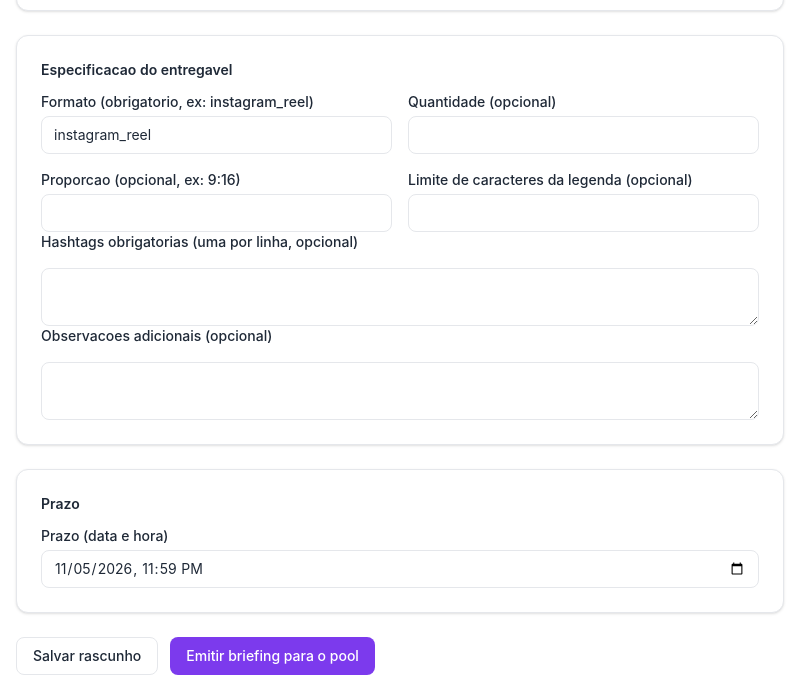
Test: BriefingComposerPage - US-18a › issues successfully and reports how many creators were queued
This screenshot has width=801, height=675.
(page scrolled)
Click the button "Emitir briefing para o pool". click: x=273, y=656
box: 170,637 -> 375,674
(page scrolled)
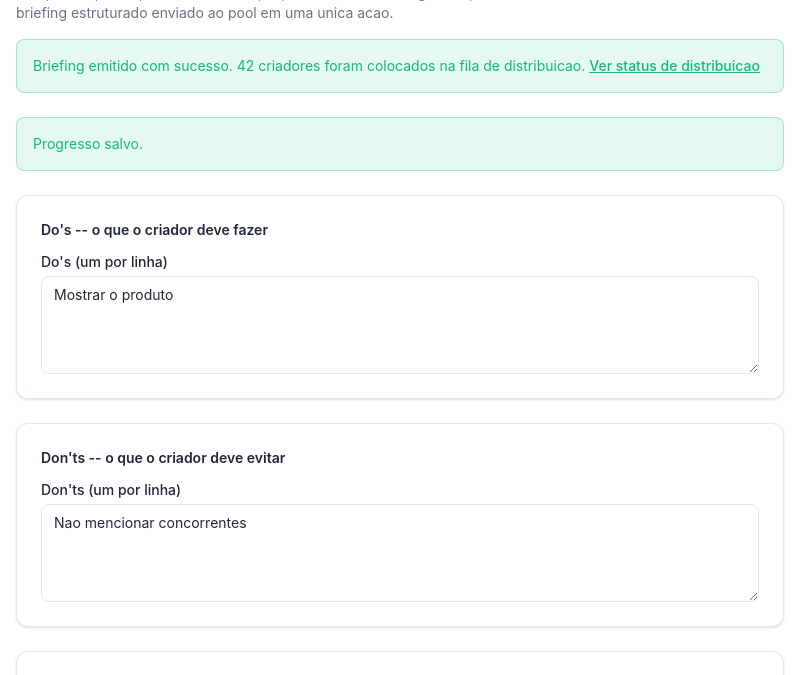
Now the text "42 criadores foram colocados na fila de distribuicao" is shown, box 16,39 -> 784,93
